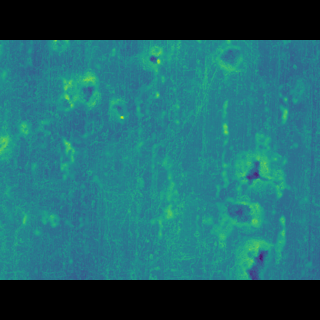Loch: (205, 124, 300, 251), (54, 94, 102, 128), (215, 74, 245, 94), (106, 112, 130, 136), (140, 74, 169, 91), (49, 69, 71, 82)
